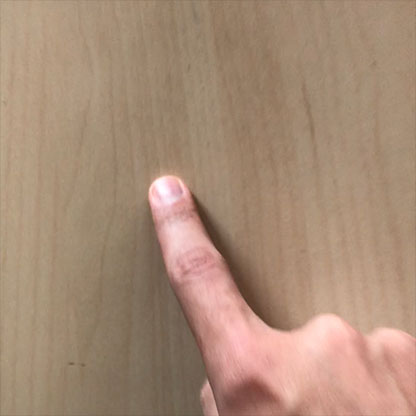fingertip: (145, 170, 201, 215)
